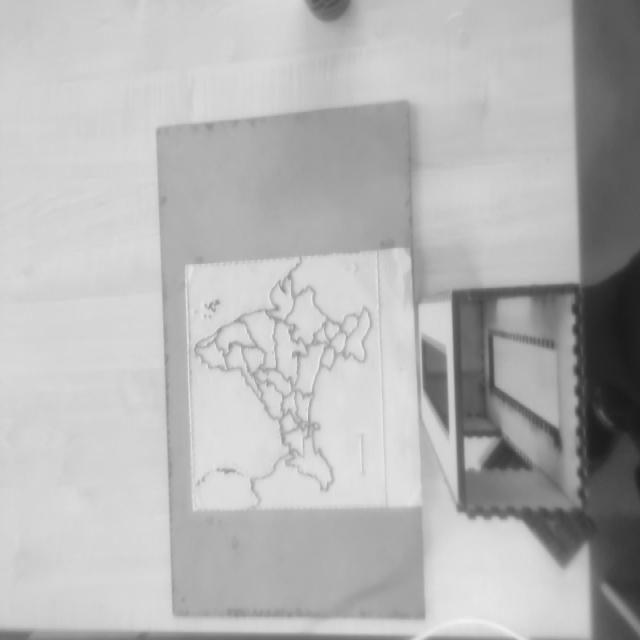map: (184, 250, 387, 513)
